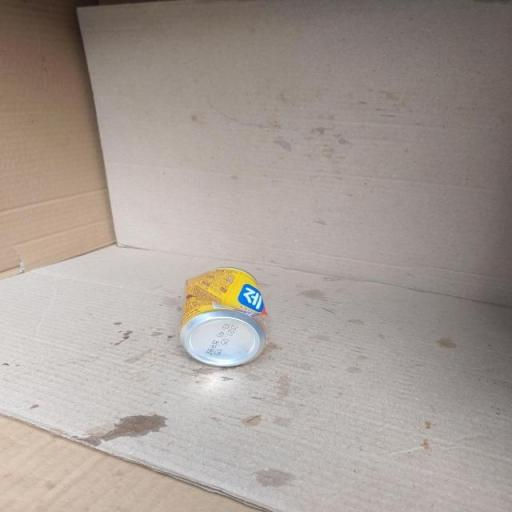metal: (157, 254, 304, 412)
